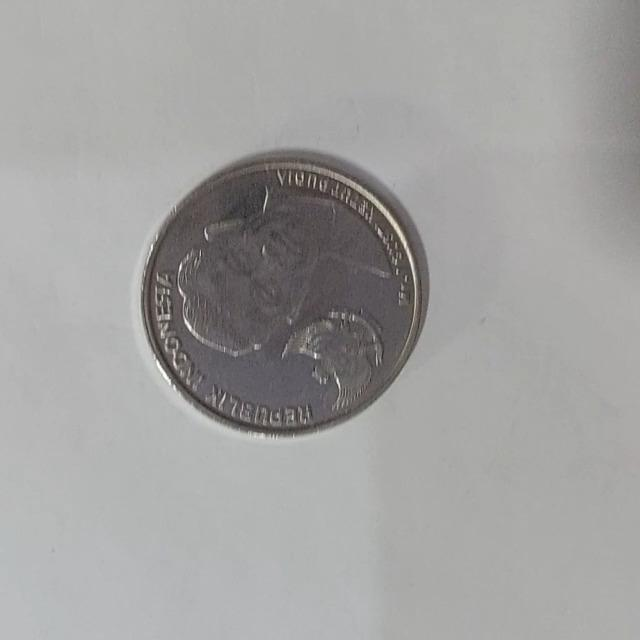Rp100: (137, 149, 429, 437)
